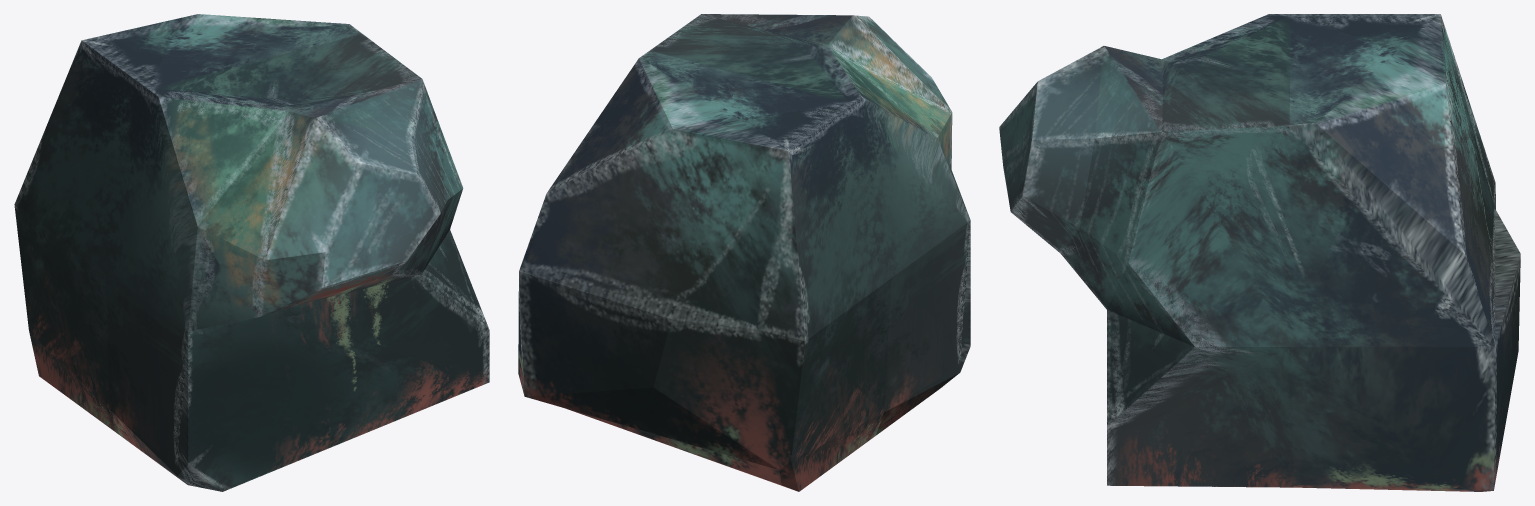
File: Rock 2.fbx
The picture shows the model from 3 angles, left to right: view 1: azimuth 30°, elevation 25°; view 2: azimuth 150°, elevation 25°; view 3: azimuth 270°, elevation 25°; orthographic projection. The views are drawn at different scales.
Parts seen in each view (by area): view 1: Rock 2; view 2: Rock 2; view 3: Rock 2.
Part boxes in pixels (box(x1,y1,x2,y2)): Rock 2: box(14, 14, 489, 491); Rock 2: box(518, 14, 970, 491); Rock 2: box(999, 14, 1520, 491).
Bounding box in the file's own units: 209 × 224 × 268.
1 material, 1 textured.
